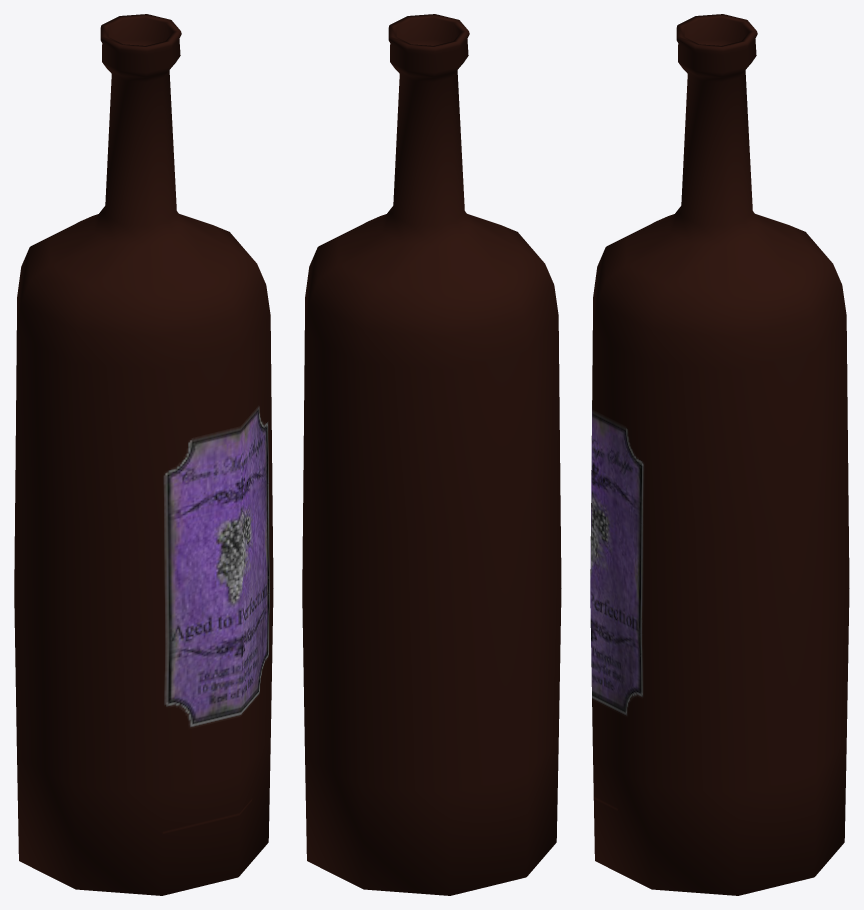
The model's file is Kitchen_WineBottle.FBX.
3 renders of one model, left to right at view 1: azimuth 30°, elevation 25°; view 2: azimuth 150°, elevation 25°; view 3: azimuth 270°, elevation 25°, orthographic.
Parts seen in each view (by area): view 1: Kitchen_WineBottle; view 2: Kitchen_WineBottle; view 3: Kitchen_WineBottle.
Boxes of the visible parts, bbox=[...] form: Kitchen_WineBottle: bbox=[14, 14, 273, 895]; Kitchen_WineBottle: bbox=[302, 14, 561, 895]; Kitchen_WineBottle: bbox=[590, 14, 849, 895].
Size of the model in its own units: 0.0837 by 0.2868 by 0.0824.
